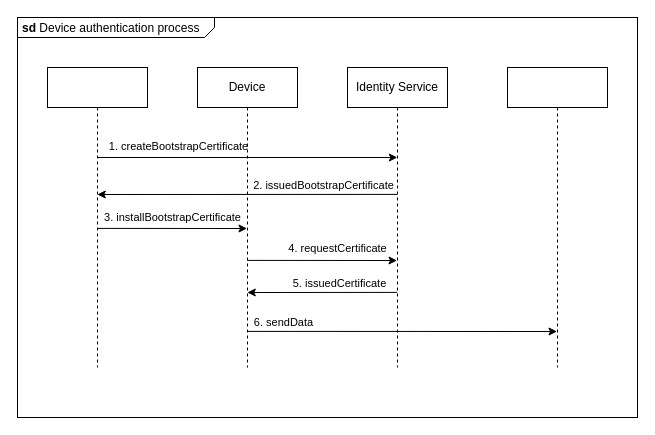
The diagram is 655 pixels wide and 435 high, and some of its shapes have lost their labels. Here are the shapes that lost their labels. From the top down, the box of each, then its label:
(46, 66, 148, 368): Admin
(506, 66, 608, 368): Broker MQTT
